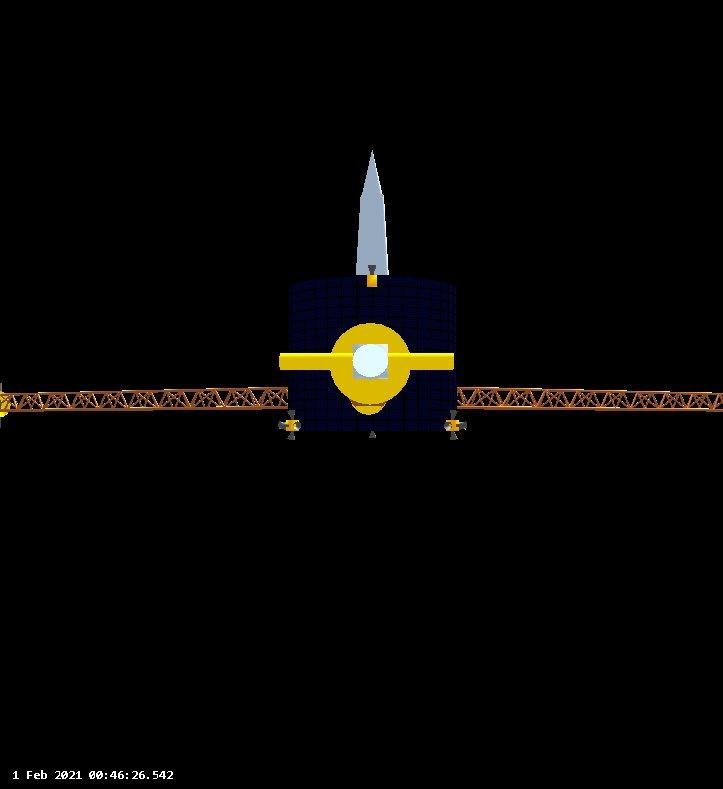antenna: (352, 340, 389, 377)
body: (272, 263, 465, 450)
thruster: (448, 409, 459, 421), (285, 430, 297, 441), (367, 264, 377, 277), (277, 420, 290, 430), (287, 409, 296, 421), (448, 431, 460, 440), (292, 421, 302, 431), (442, 421, 453, 430), (456, 421, 467, 430), (368, 430, 379, 439)
